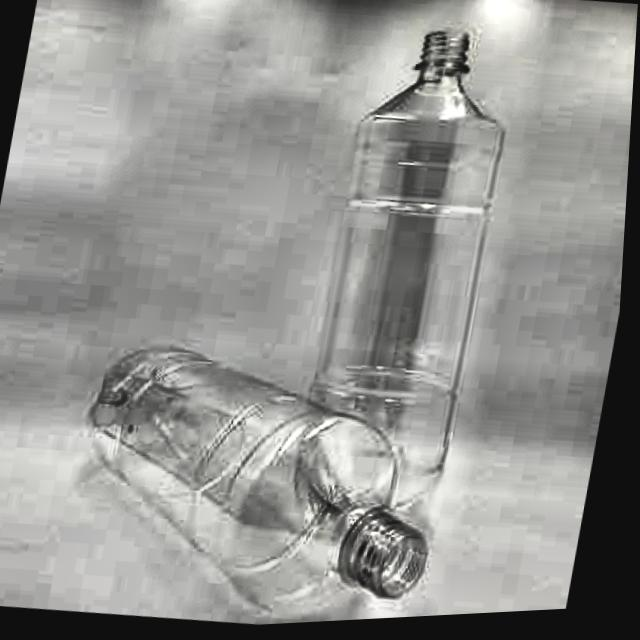Bottles: (275, 14, 575, 550), (40, 300, 481, 637)
